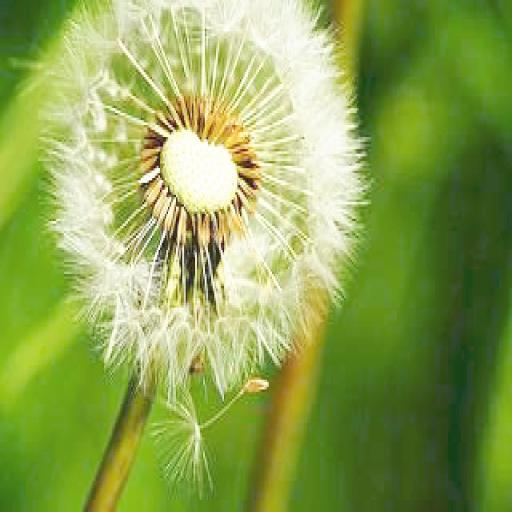dandelion: (16, 0, 384, 512)
